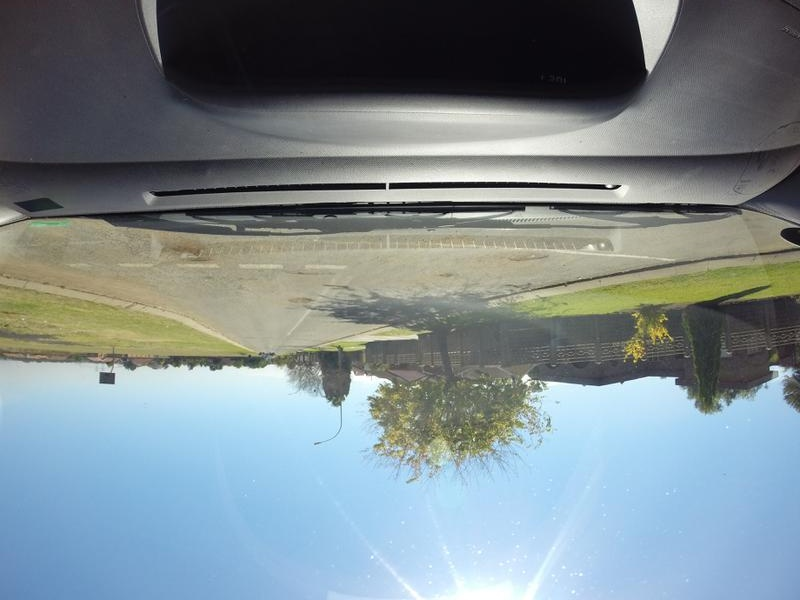pothole: (486, 248, 549, 267), (158, 233, 200, 261), (274, 268, 332, 278), (291, 291, 312, 310)
